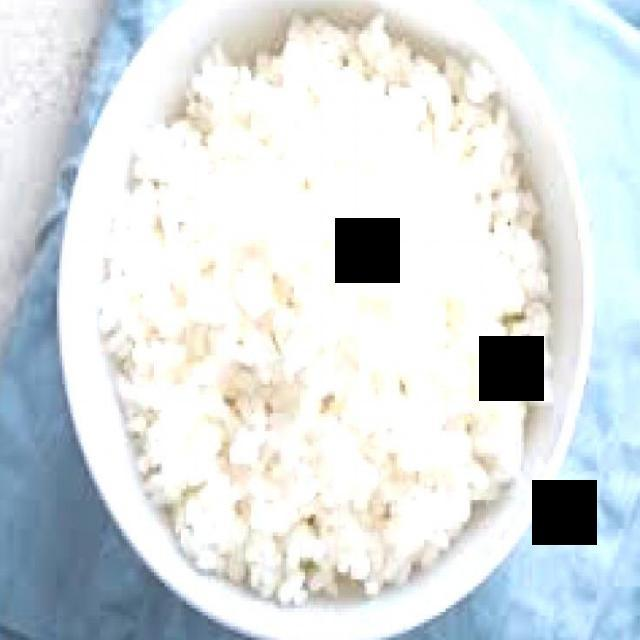rice: (98, 8, 556, 606)
